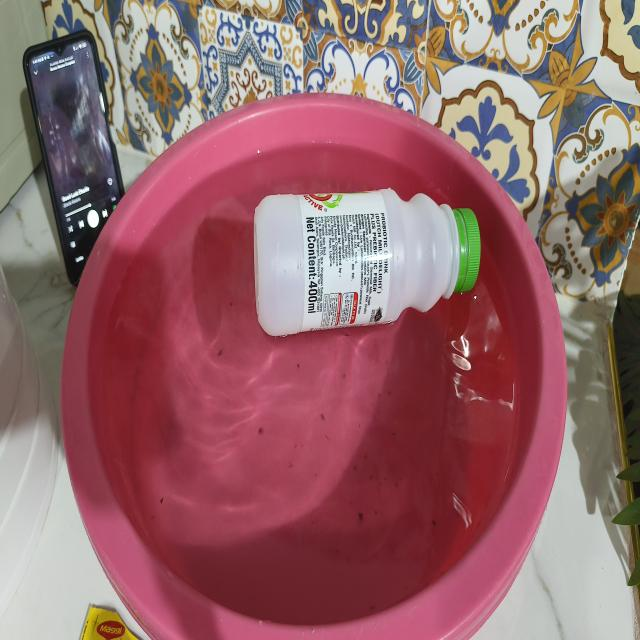Plastic Bottle: (254, 188, 480, 336)
